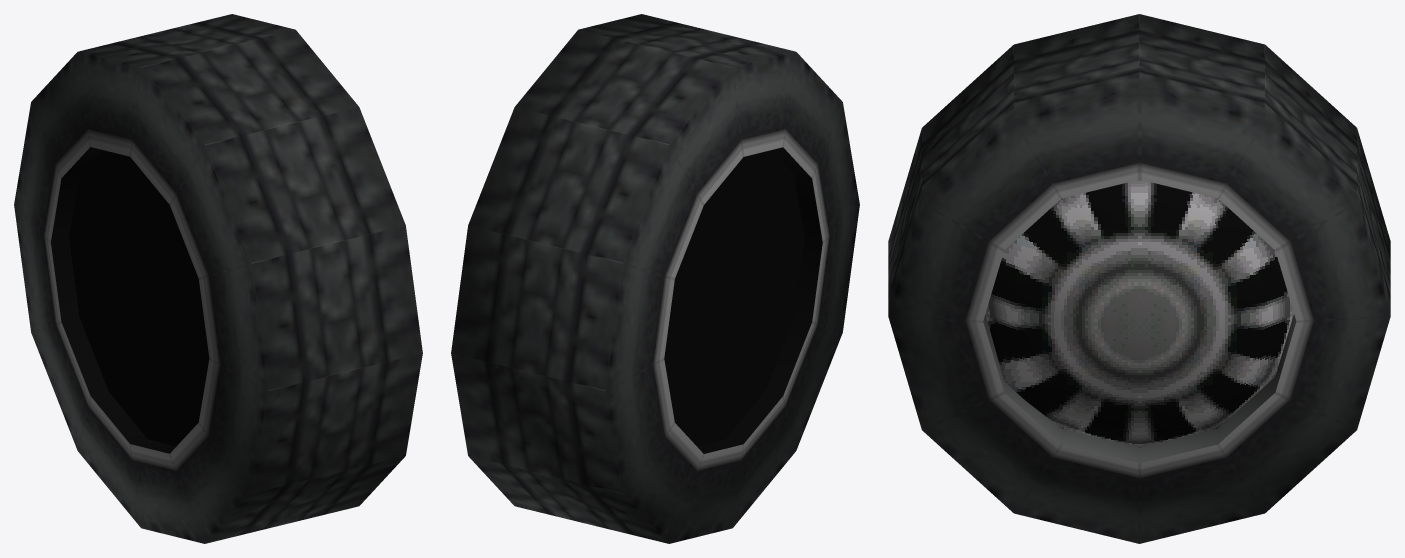
The model's file is DefaultWheel_manana.glb.
3 renders of one model, left to right at view 1: azimuth 30°, elevation 25°; view 2: azimuth 150°, elevation 25°; view 3: azimuth 270°, elevation 25°, orthographic.
Visible parts, largest first — view 1: wheel; view 2: wheel; view 3: wheel.
Boxes of the visible parts, left/top/right/bottom form: wheel: left=14, top=14, right=422, bottom=543; wheel: left=451, top=14, right=859, bottom=543; wheel: left=888, top=14, right=1390, bottom=543.
Size of the model in its own units: 0.2694 by 0.6243 by 0.6243.
4 materials, 3 textured.
